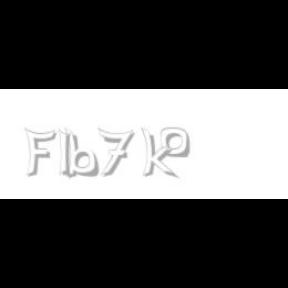7: (98, 128, 134, 178)
F: (24, 128, 56, 178)
I: (58, 128, 72, 180)
b: (64, 128, 102, 178)
k: (141, 128, 179, 180)
o: (160, 128, 189, 158)
